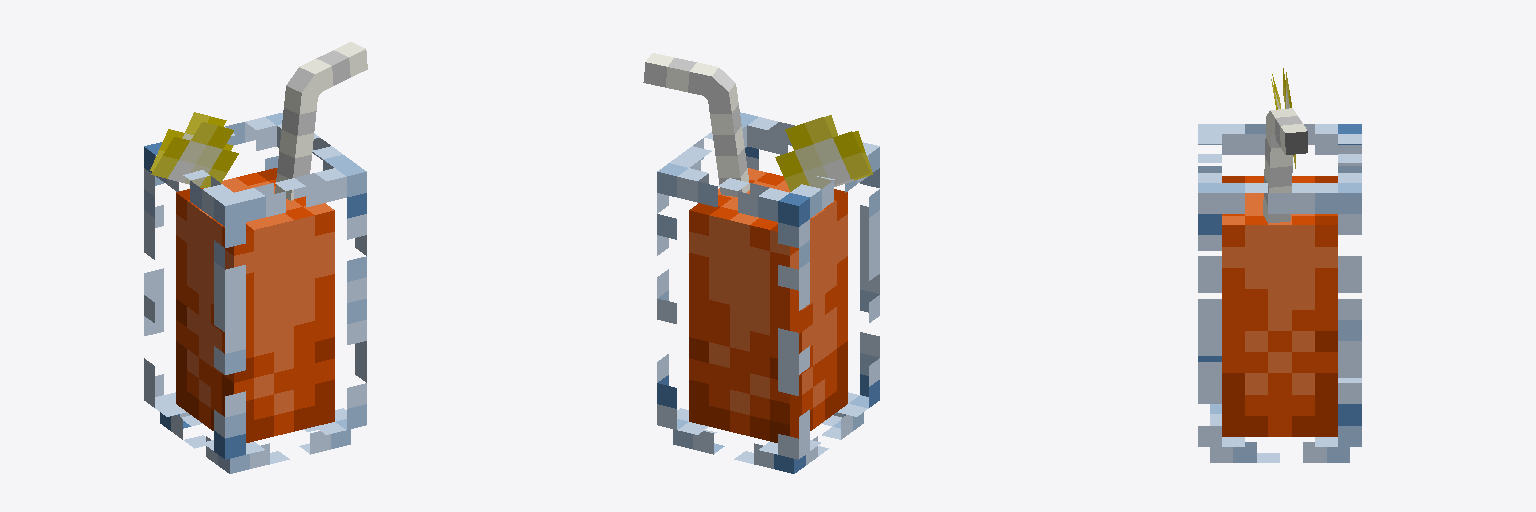
The picture shows the model from 3 angles: view 1: azimuth 30°, elevation 25°; view 2: azimuth 150°, elevation 25°; view 3: azimuth 270°, elevation 25°; orthographic projection.
Parts seen in each view (by area): view 1: cube.375, cube.366, cube.368, cube.367, cube.374, cube.370, cube.365, cube.372, cube.369, cube.373, cube.371; view 2: cube.375, cube.367, cube.368, cube.373, cube.369, cube.370, cube.365, cube.372, cube.366, cube.371; view 3: cube.375, cube.369, cube.366, cube.368, cube.367, cube.365, cube.370, cube.372.
Boxes of the visible parts, x1=… form: cube.375: x1=176, y1=168, x2=334, y2=442; cube.366: x1=235, y1=163, x2=366, y2=454; cube.368: x1=155, y1=155, x2=245, y2=459; cube.367: x1=144, y1=117, x2=276, y2=408; cube.374: x1=151, y1=122, x2=238, y2=187; cube.370: x1=275, y1=86, x2=317, y2=200; cube.365: x1=160, y1=412, x2=350, y2=473; cube.372: x1=300, y1=42, x2=367, y2=91; cube.369: x1=265, y1=113, x2=353, y2=421; cube.373: x1=150, y1=112, x2=232, y2=171; cube.371: x1=286, y1=67, x2=325, y2=104; cube.375: x1=689, y1=168, x2=847, y2=442; cube.367: x1=677, y1=168, x2=809, y2=459; cube.368: x1=790, y1=142, x2=879, y2=450; cube.373: x1=775, y1=117, x2=869, y2=191; cube.369: x1=657, y1=124, x2=746, y2=429; cube.370: x1=708, y1=84, x2=749, y2=196; cube.365: x1=673, y1=412, x2=863, y2=473; cube.372: x1=643, y1=53, x2=718, y2=95; cube.366: x1=740, y1=112, x2=859, y2=403; cube.371: x1=698, y1=68, x2=735, y2=106; cube.375: x1=1222, y1=176, x2=1337, y2=436; cube.369: x1=1222, y1=183, x2=1361, y2=446; cube.366: x1=1198, y1=134, x2=1221, y2=446; cube.368: x1=1198, y1=124, x2=1337, y2=361; cube.367: x1=1338, y1=124, x2=1361, y2=382; cube.365: x1=1210, y1=404, x2=1349, y2=462; cube.370: x1=1263, y1=118, x2=1292, y2=223; cube.372: x1=1270, y1=108, x2=1307, y2=154.
Bounding box in the file's own units: 0.7097 × 1.05 × 0.4375.
Materials: 1 (1 with a texture image).